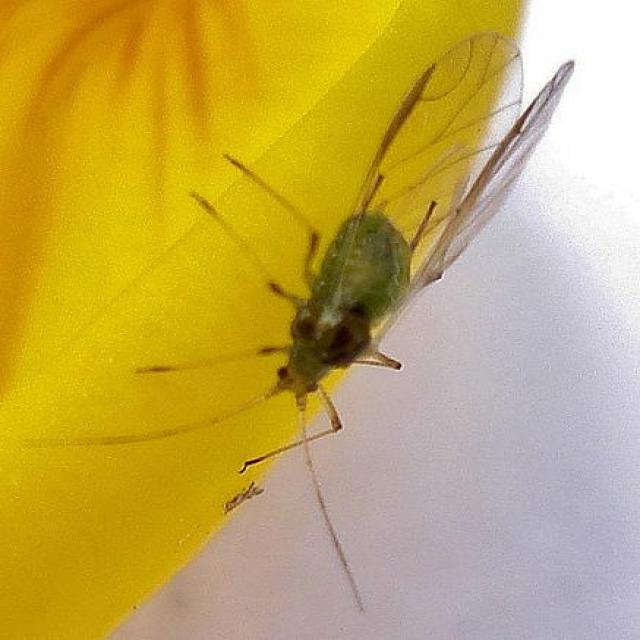Aphids: (163, 59, 543, 580)
